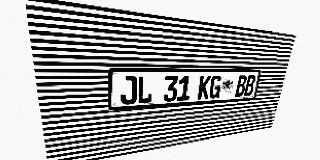1: (176, 76, 191, 101)
3: (163, 76, 178, 102)
B: (234, 75, 247, 97), (244, 75, 256, 96)
G: (208, 75, 222, 99)
J: (120, 76, 137, 105)
K: (197, 75, 211, 99)
L: (137, 76, 153, 104)
